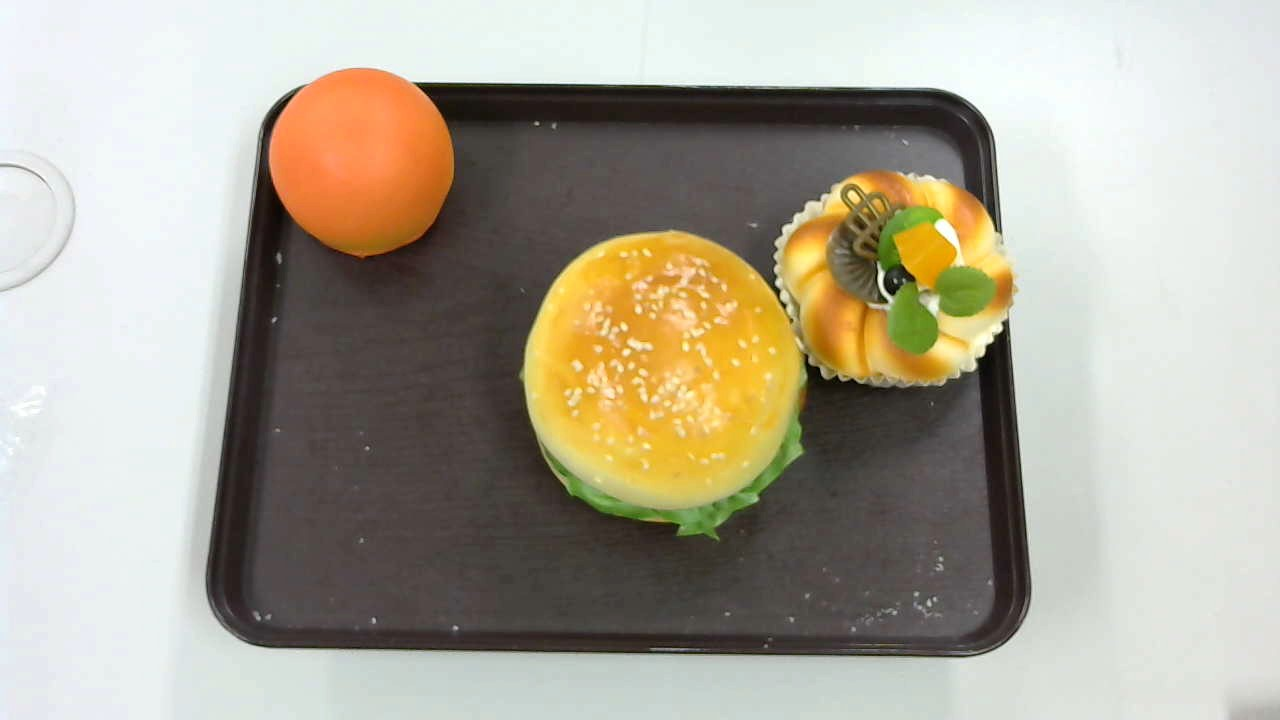bun: (269, 68, 455, 256)
fruit tart: (774, 168, 1020, 389)
hamburger: (519, 230, 806, 541)
